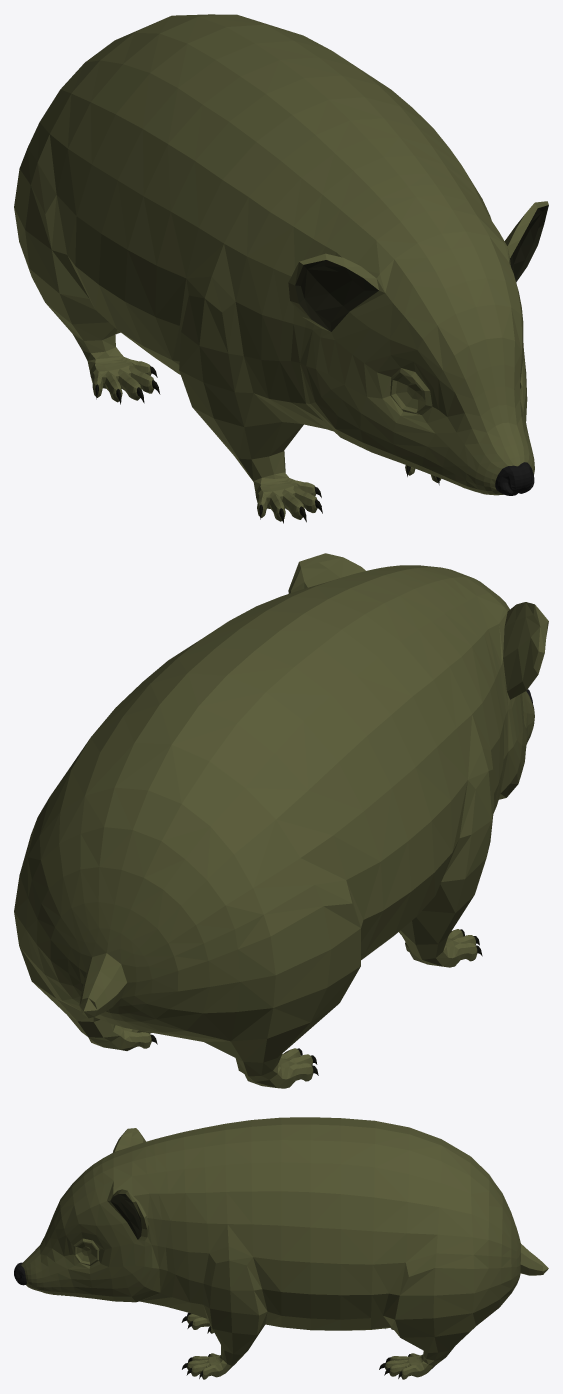
Rendered from hedgehog_hedgehog.obj.
3 renders of one model, top to bottom at view 1: azimuth 30°, elevation 25°; view 2: azimuth 150°, elevation 25°; view 3: azimuth 270°, elevation 25°, orthographic. The views are drawn at different scales.
Size of the model in its own units: 0.0833 by 0.0938 by 0.2031.
